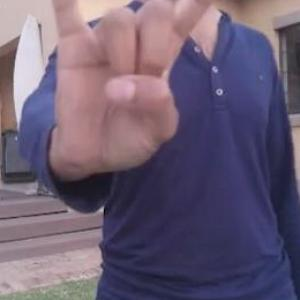takeoff-hand: (48, 0, 236, 173)
